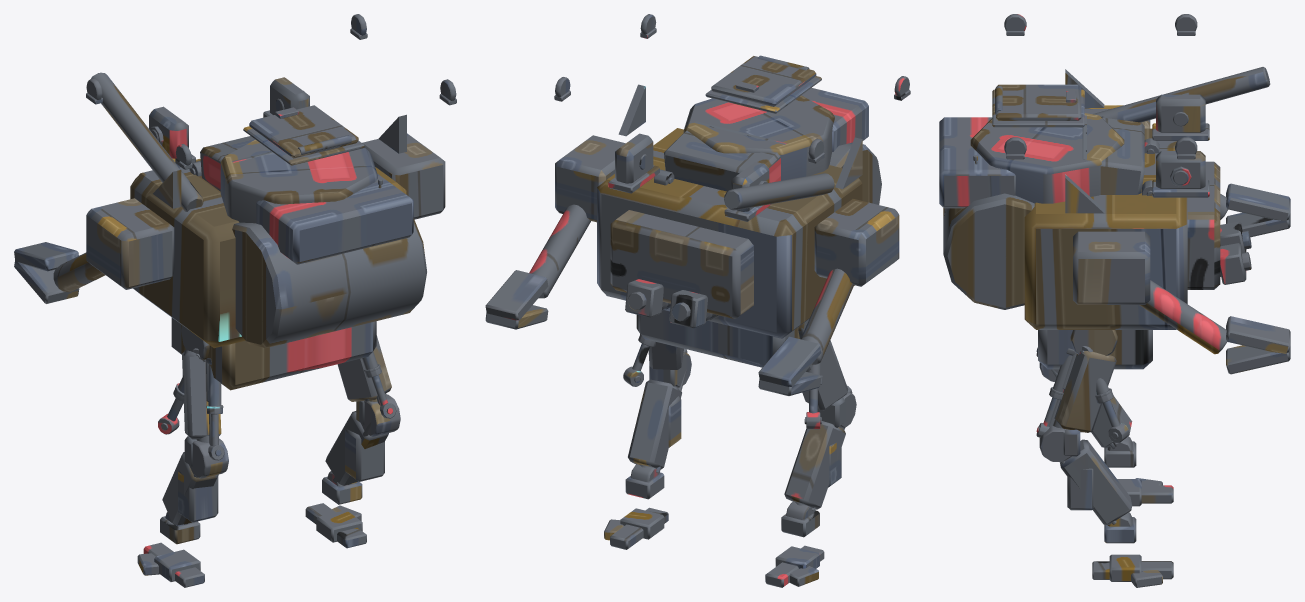
File: AtlasCraneMech_Atlas.fbx
3 views of the same model, side by side, from view 1: azimuth 30°, elevation 25°; view 2: azimuth 150°, elevation 25°; view 3: azimuth 270°, elevation 25° (orthographic). The views are drawn at different scales.
Parts seen in each view (by area): view 1: AtlasCraneMech_UnifiedMesh; view 2: AtlasCraneMech_UnifiedMesh; view 3: AtlasCraneMech_UnifiedMesh.
Boxes of the visible parts, bbox=[...] form: AtlasCraneMech_UnifiedMesh: bbox=[14, 14, 456, 587]; AtlasCraneMech_UnifiedMesh: bbox=[485, 14, 910, 587]; AtlasCraneMech_UnifiedMesh: bbox=[939, 14, 1290, 587].
Bounding box in the file's own units: 201 × 286 × 197.
Materials: 1 (1 with a texture image).
